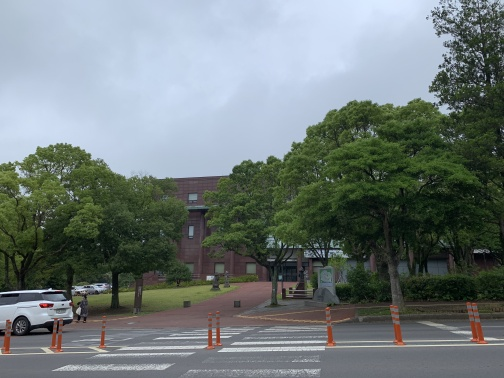Museum: (188, 231, 353, 284)
